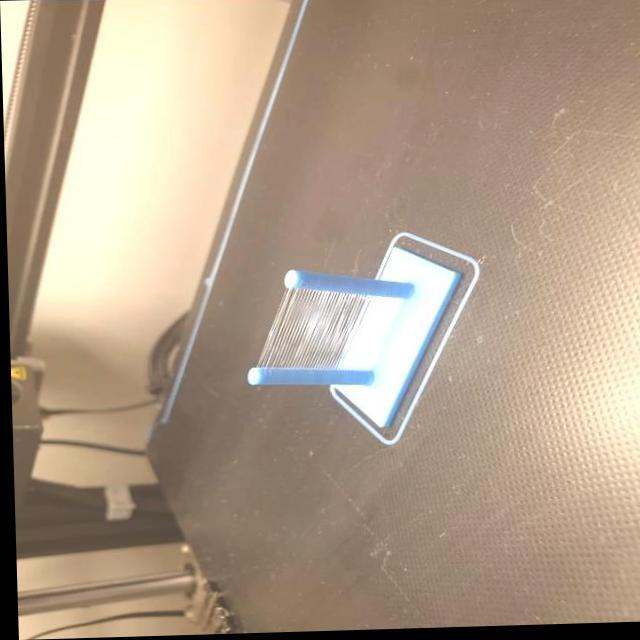stringing: (264, 323, 332, 369), (273, 290, 334, 329), (330, 292, 359, 346)
